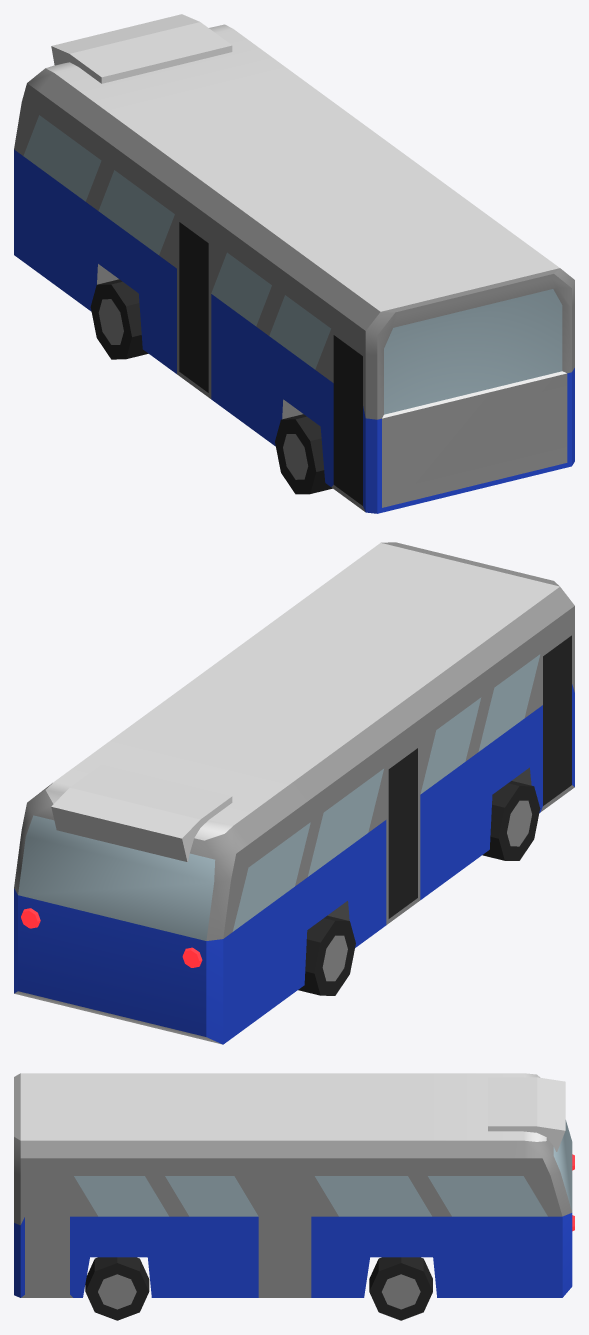
The model's file is bus.fbx.
3 renders of one model, top to bottom at view 1: azimuth 30°, elevation 25°; view 2: azimuth 150°, elevation 25°; view 3: azimuth 270°, elevation 25°, orthographic. The views are drawn at different scales.
Parts seen in each view (by area): view 1: bus; view 2: bus; view 3: bus.
Boxes of the visible parts, box(x1,y1,x2,y2) form: bus: box(14, 14, 574, 513); bus: box(14, 542, 574, 1044); bus: box(14, 1073, 574, 1320).
Bounding box in the file's own units: 0.3564 × 0.3496 × 1.
